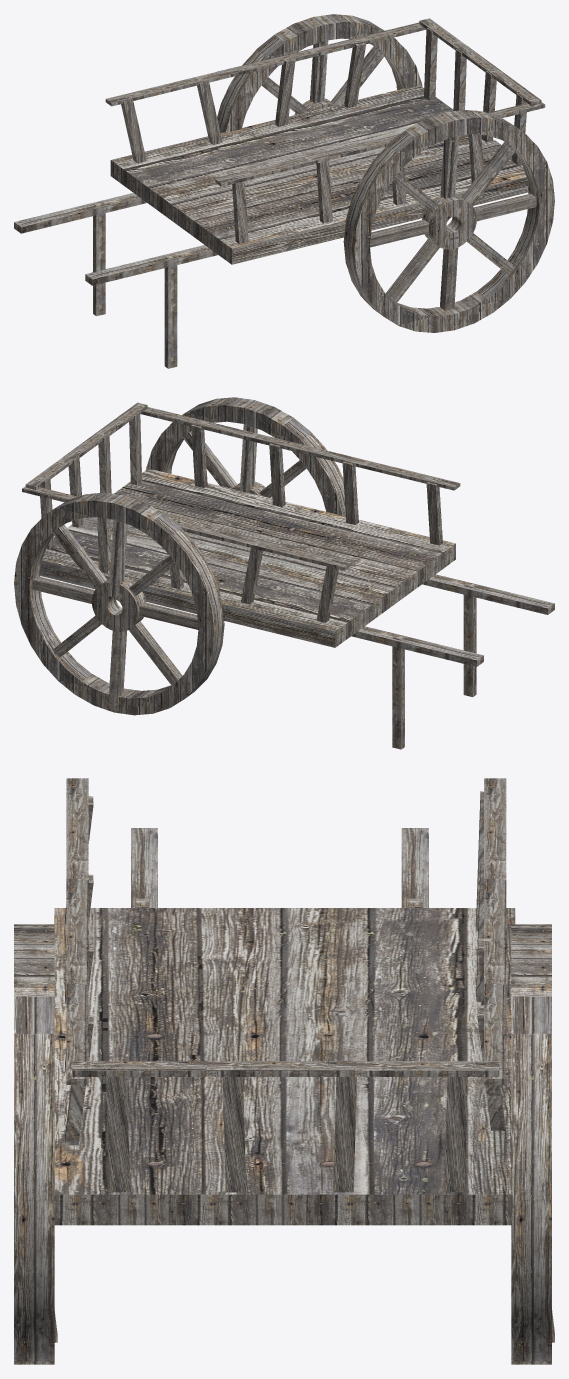
Rendered from vagn.FBX.
3 renders of one model, top to bottom at view 1: azimuth 30°, elevation 25°; view 2: azimuth 150°, elevation 25°; view 3: azimuth 270°, elevation 25°, orthographic. The views are drawn at different scales.
Visible parts, largest first — view 1: Box001, Circle004, Circle005, Box006, Circle003, Box008, Box002, Box010, Box009, Box011, Box005, Line811 (+19 smaller); view 2: Box001, Circle005, Circle004, Box008, Box006, Circle006, Box002, Box010, Box009, Box005, Box011, Line833 (+19 smaller); view 3: Box001, Circle004, Circle005, Box009, Box008, Box006, Line841, Line842, Line844, Line843, Box002, Box010 (+2 smaller).
Part boxes in pixels (x1,y1,x2,y2): Box001: (110,85,528,264); Circle004: (343,109,554,332); Circle005: (217,14,422,133); Box006: (105,22,426,106); Circle003: (422,194,476,249); Box008: (215,102,545,186); Box002: (14,193,146,233); Box010: (85,245,217,285); Box009: (419,18,541,105); Box011: (164,254,177,368); Box005: (93,201,105,316); Line811: (461,142,515,205); Box001: (39,468,455,647); Circle005: (14,492,224,715); Circle004: (146,397,345,516); Box008: (140,407,460,490); Box006: (22,486,350,570); Circle006: (91,577,146,631); Box002: (351,626,483,666); Box010: (422,574,554,614); Box009: (25,402,147,489); Box005: (392,635,404,749); Box011: (463,582,476,696); Line833: (108,631,126,710); Box001: (54,908,515,1225); Circle004: (14,924,54,1364); Circle005: (511,924,551,1364); Box009: (72,1061,499,1076); Box008: (66,778,88,1084); Box006: (484,778,506,1084); Line841: (444,1077,467,1192); Line842: (333,1077,356,1192); Line844: (105,1077,130,1192); Line843: (222,1077,245,1192); Box002: (401,828,428,907); Box010: (131,828,157,907).
Bounding box in the file's own units: 141 × 65.03 × 79.8.
2 materials, 2 textured.
